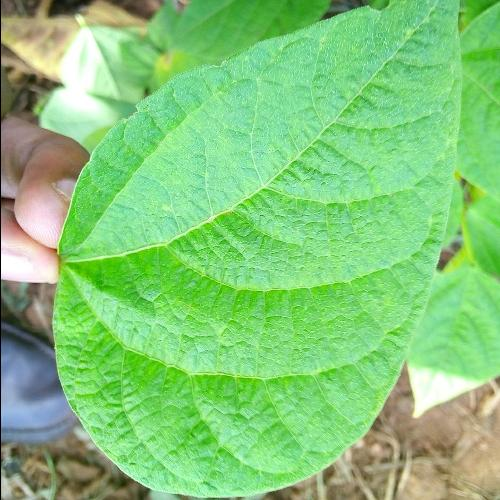mozaik: (107, 146, 323, 450), (223, 62, 436, 136)
